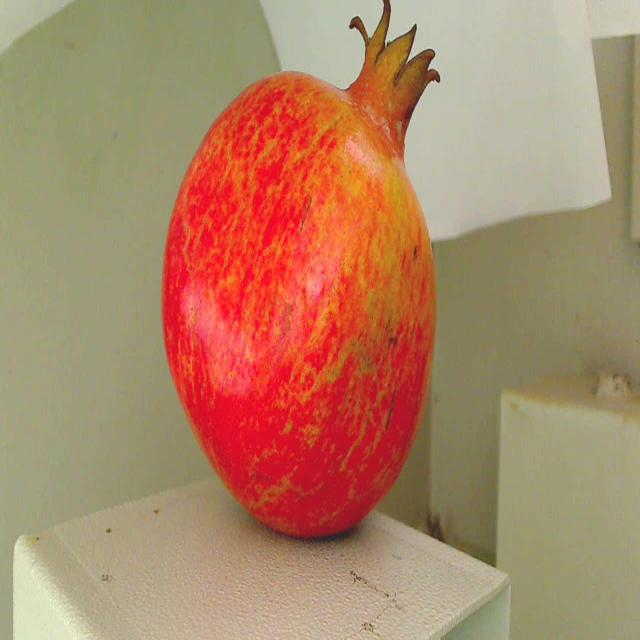pomegranate: (154, 0, 446, 550)
